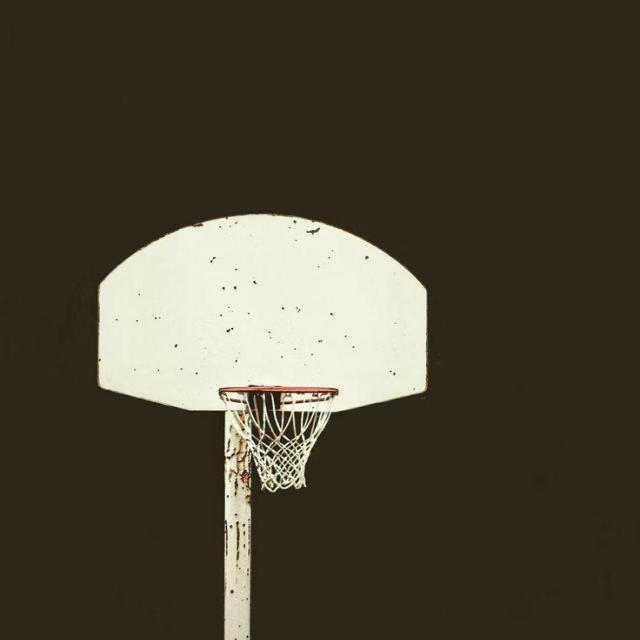hoop: (203, 368, 362, 506)
